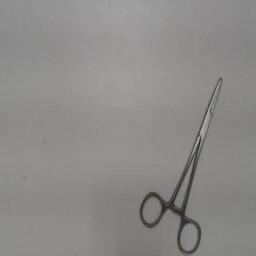Mayo Needle Holder: (136, 70, 230, 254)
